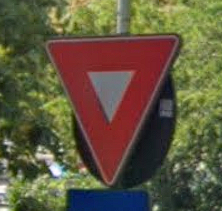cedeaza: (42, 32, 187, 187)
